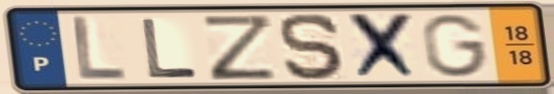G: (419, 12, 492, 79)
L: (70, 14, 129, 83), (138, 17, 201, 80)
S: (276, 11, 350, 82)
X: (345, 10, 424, 82)
Z: (199, 13, 280, 83)
